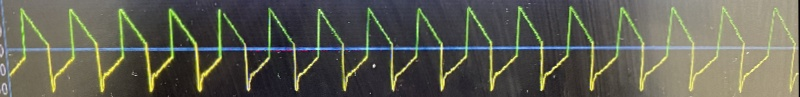peepi: (2, 0, 800, 97)
